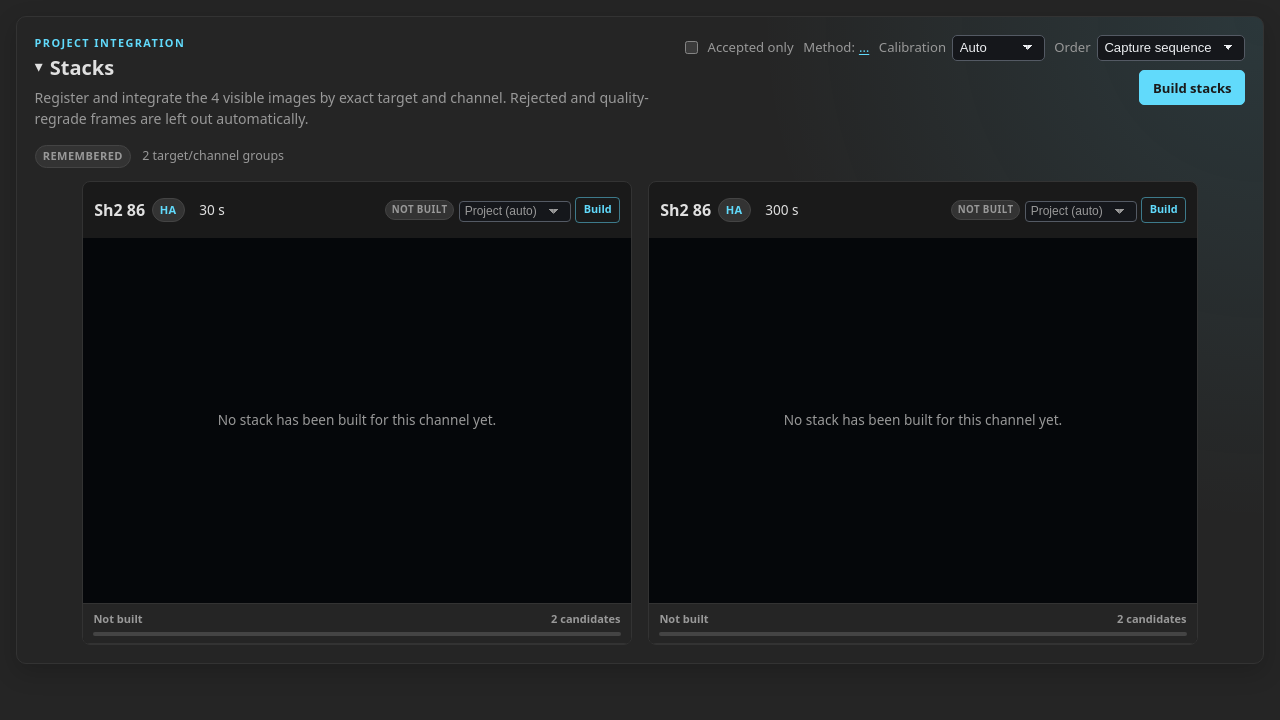
StackPreviewPanel exposure groups › keeps same-filter cards, progress, and calibration overrides independent
The image size is (1280, 720).
Expected: the number of buttons named "Build channel" is 2, [576,197,620,223]; [1142,197,1186,223]
Select "Off" in the dropdown named "Sh2 86 Ha · 30 s calibration" at (515, 211), box [459,200,571,222]
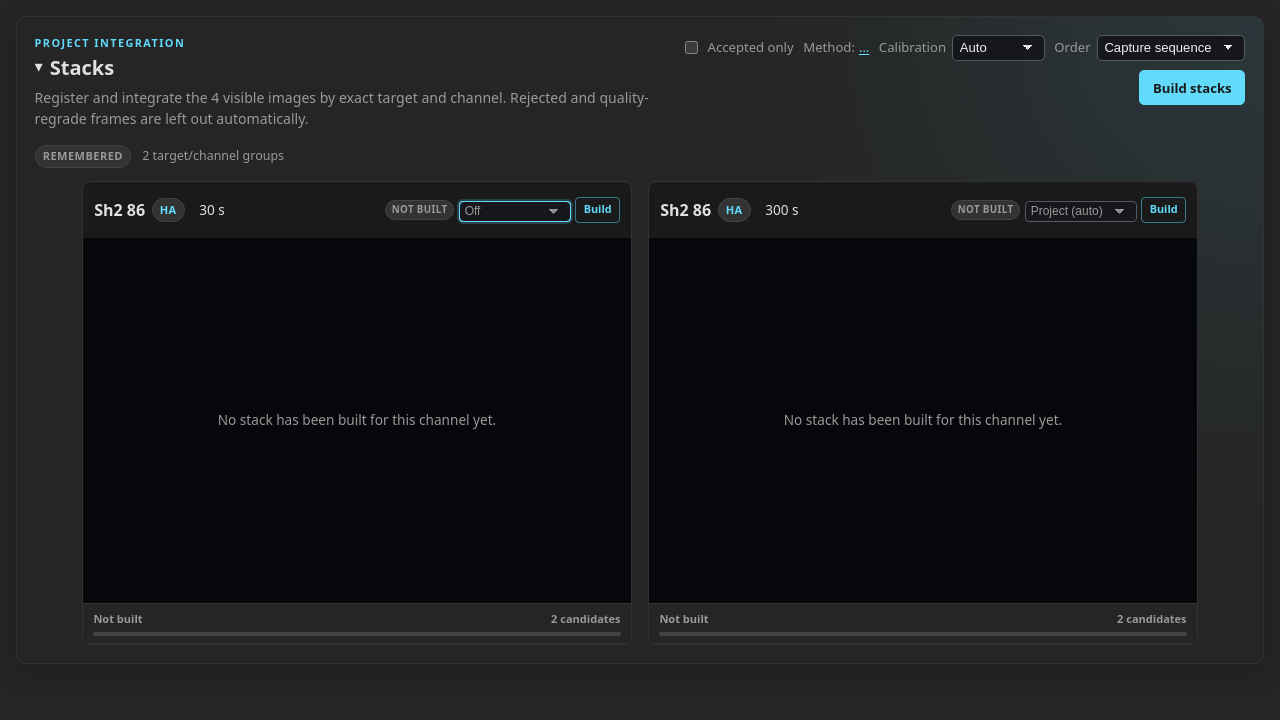
Expected: the dropdown named "Sh2 86 Ha · 300 s calibration" shows "Project (auto)", [1025,200,1137,222]
Click the button "Build stacks" at (1192, 88), box [1139,70,1245,105]
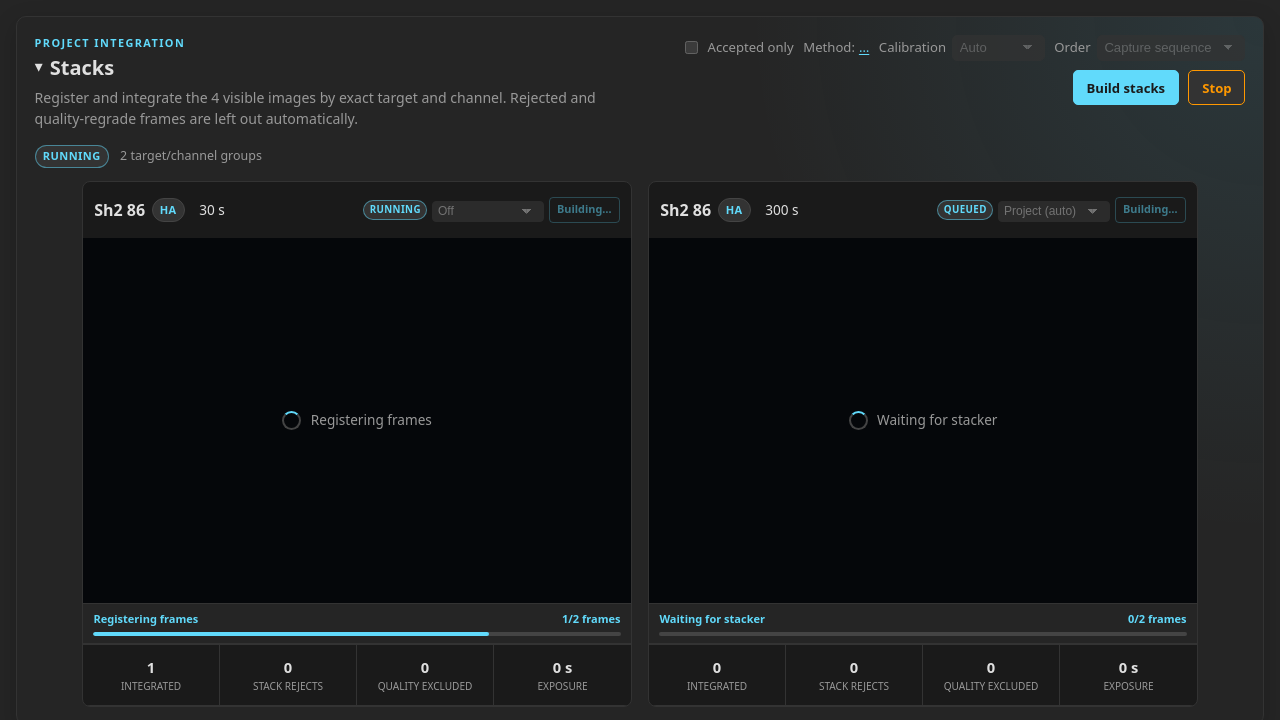
Expected: the number of elements with class "stack-preview-card" is 2, [82,181,632,707]; [648,181,1198,707]
Result: the element with class "stack-preview-card" shows "running" at [370,202,421,216]
Result: the element with class "stack-preview-card" shows "queued" at [944,202,987,216]
